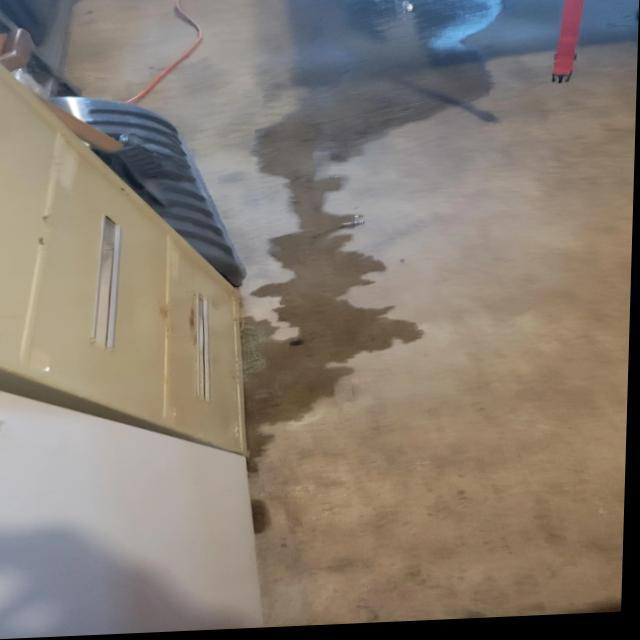water accumulation: (244, 0, 502, 453)
